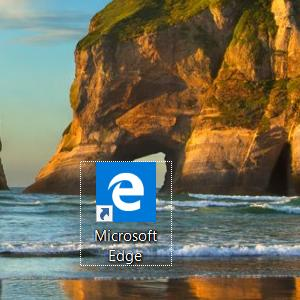edge: (95, 162, 157, 222)
